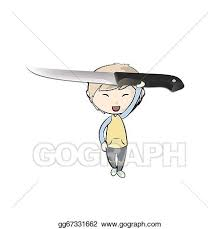knife: (22, 60, 186, 96)
